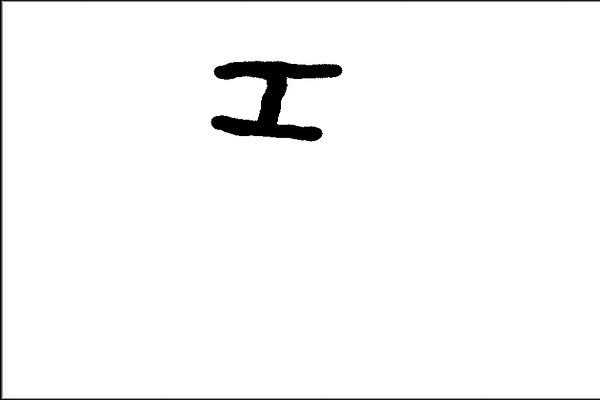i: (204, 51, 344, 146)
